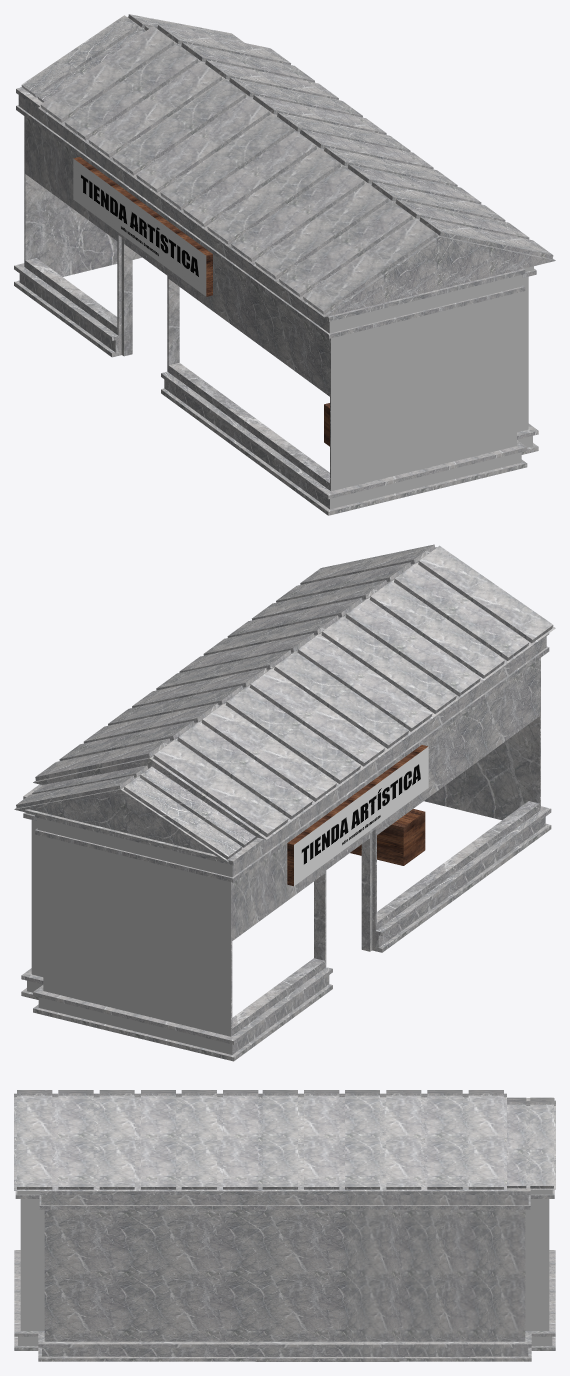
Rendered from ArtSupply.FBX.
The picture shows the model from 3 angles, top to bottom: view 1: azimuth 30°, elevation 25°; view 2: azimuth 150°, elevation 25°; view 3: azimuth 270°, elevation 25°; orthographic projection. The views are drawn at different scales.
Visible parts, largest first — view 1: Object100; view 2: Object100; view 3: Object100.
Part boxes in pixels (x1,y1,x2,y2): Object100: [14, 14, 555, 515]; Object100: [14, 544, 555, 1061]; Object100: [14, 1090, 555, 1361].
Bounding box in the file's own units: 145 × 153 × 342.
